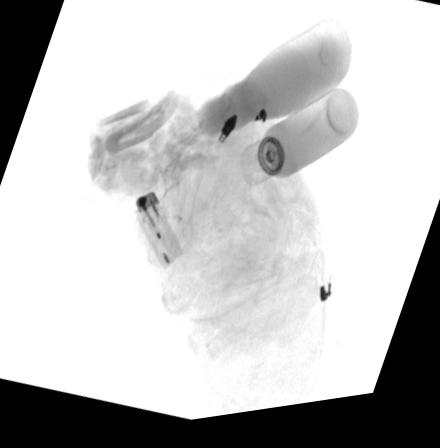Lighter: (133, 193, 183, 274)
Sprayer: (237, 97, 358, 194)
